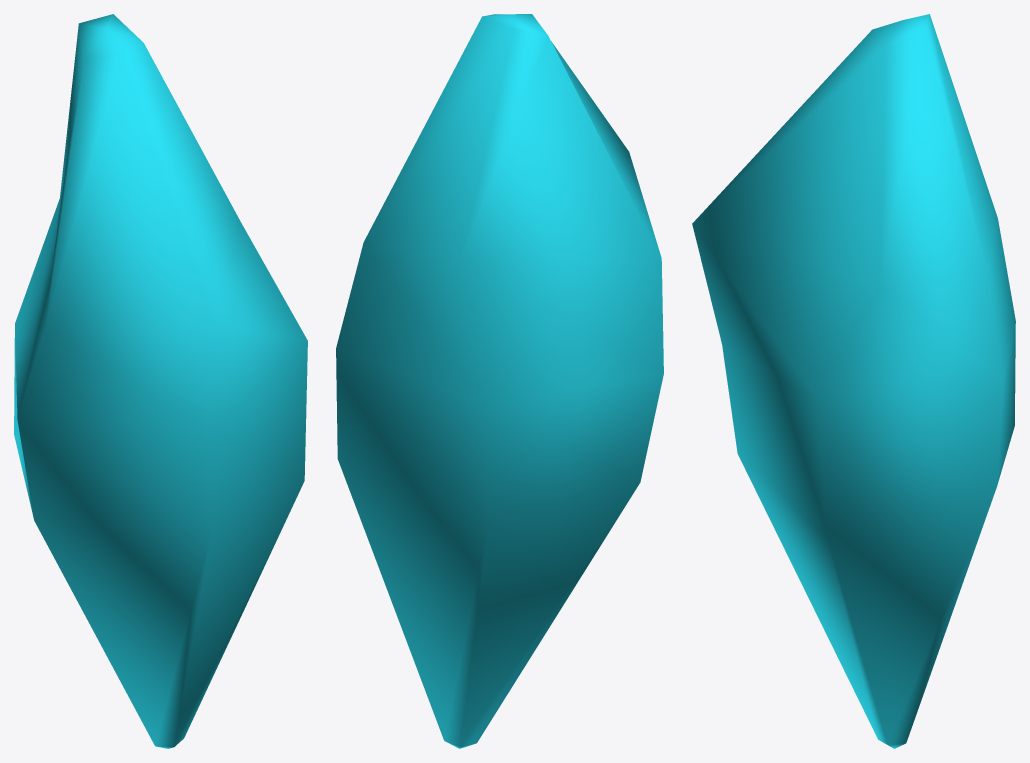
Rendered from CrystalShard.FBX.
The picture shows the model from 3 angles, left to right: view 1: azimuth 30°, elevation 25°; view 2: azimuth 150°, elevation 25°; view 3: azimuth 270°, elevation 25°; orthographic projection. The views are drawn at different scales.
Visible parts, largest first — view 1: Object001; view 2: Object001; view 3: Object001.
Part boxes in pixels (box(x1,y1,x2,y2)): Object001: box(14, 14, 307, 748); Object001: box(336, 14, 663, 748); Object001: box(692, 14, 1015, 748).
Size of the model in its own units: 10.28 by 26.08 by 10.86.
